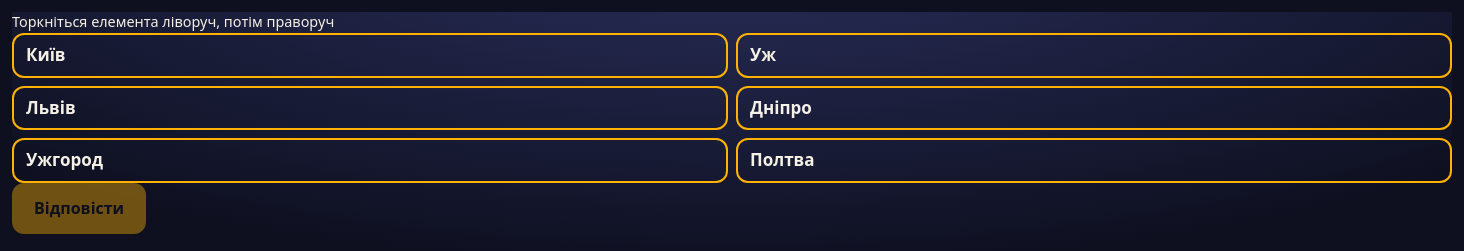
Scenario: AnswerInput › match › shows the pair number on both connected items
Click the button "Львів".
click(51, 107)  # box x1=12 y1=86 x2=728 y2=130
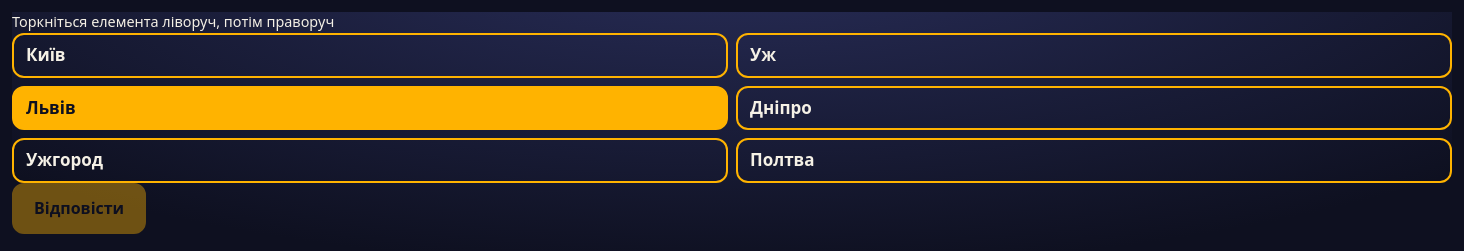
Click the button "Дніпро".
click(781, 107)  # box x1=736 y1=86 x2=1452 y2=130
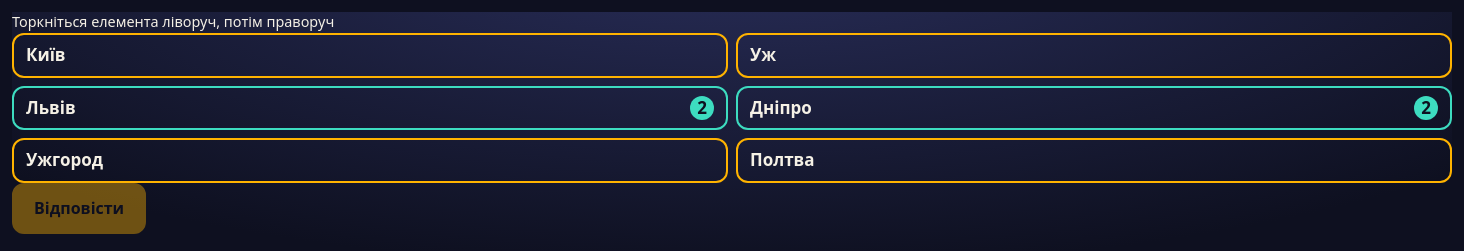
Check: the 1st text "2" is shown, box x1=690 y1=96 x2=714 y2=120
Check: the 2nd text "2" is shown, box x1=1414 y1=96 x2=1438 y2=120
